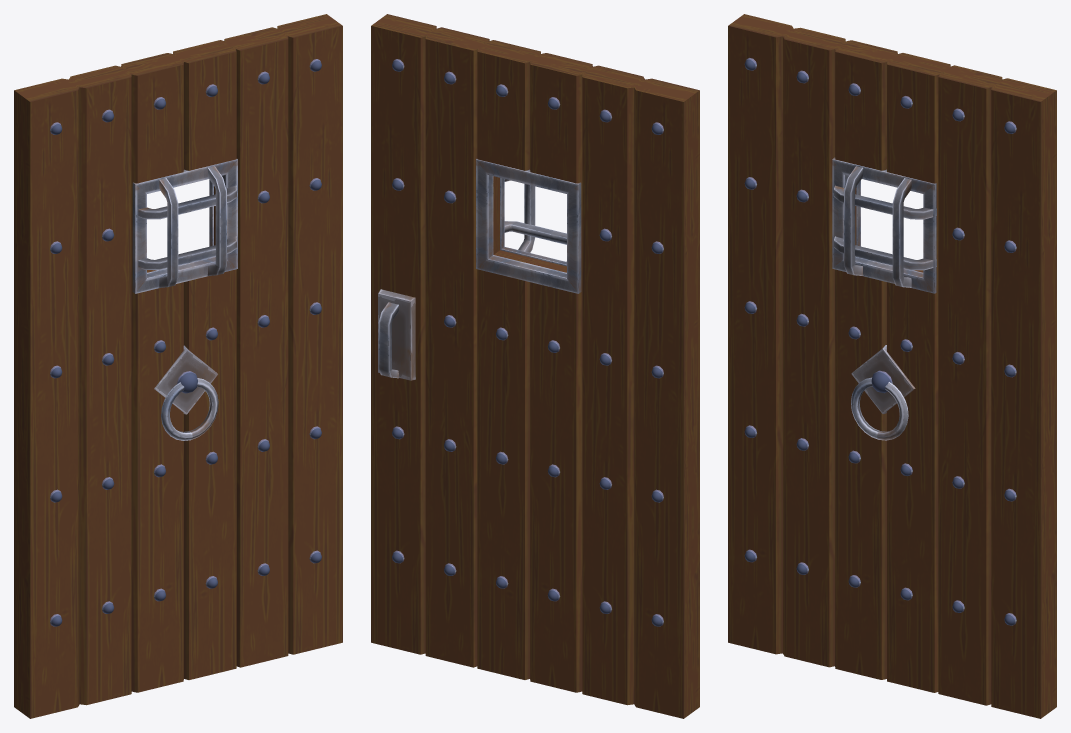
The model's file is Door_2_Flat.obj.
3 views of the same model, side by side, from view 1: azimuth 30°, elevation 25°; view 2: azimuth 150°, elevation 25°; view 3: azimuth 330°, elevation 25° (orthographic).
Parts seen in each view (by area): view 1: Door_2_Flat; view 2: Door_2_Flat; view 3: Door_2_Flat.
Boxes of the visible parts, x1=… form: Door_2_Flat: x1=14, y1=14, x2=342, y2=718; Door_2_Flat: x1=371, y1=14, x2=699, y2=718; Door_2_Flat: x1=728, y1=14, x2=1056, y2=718.
Size of the model in its own units: 1.11 by 2.1 by 0.2609.
